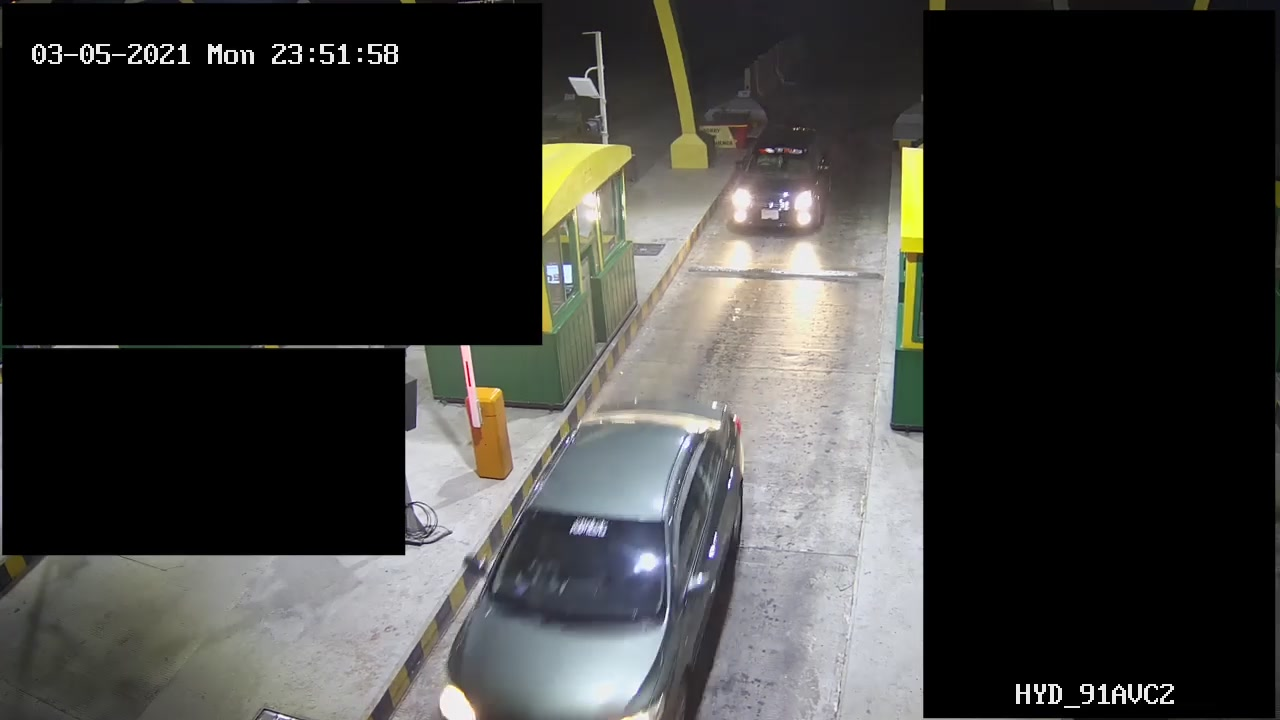F1: (720, 115, 836, 247)
